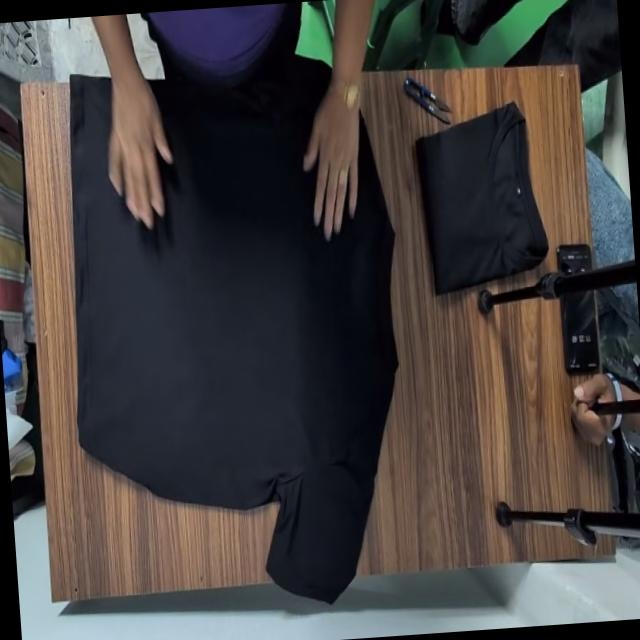new-garment: (70, 61, 397, 598)
